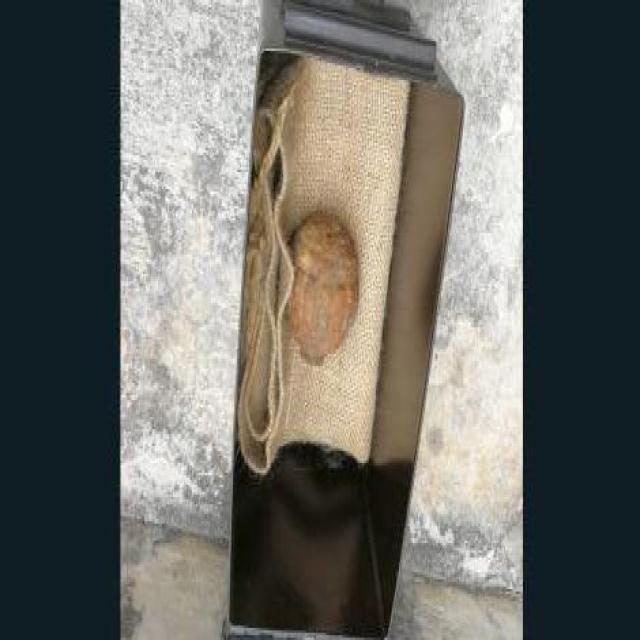grenade: (285, 210, 362, 370)
